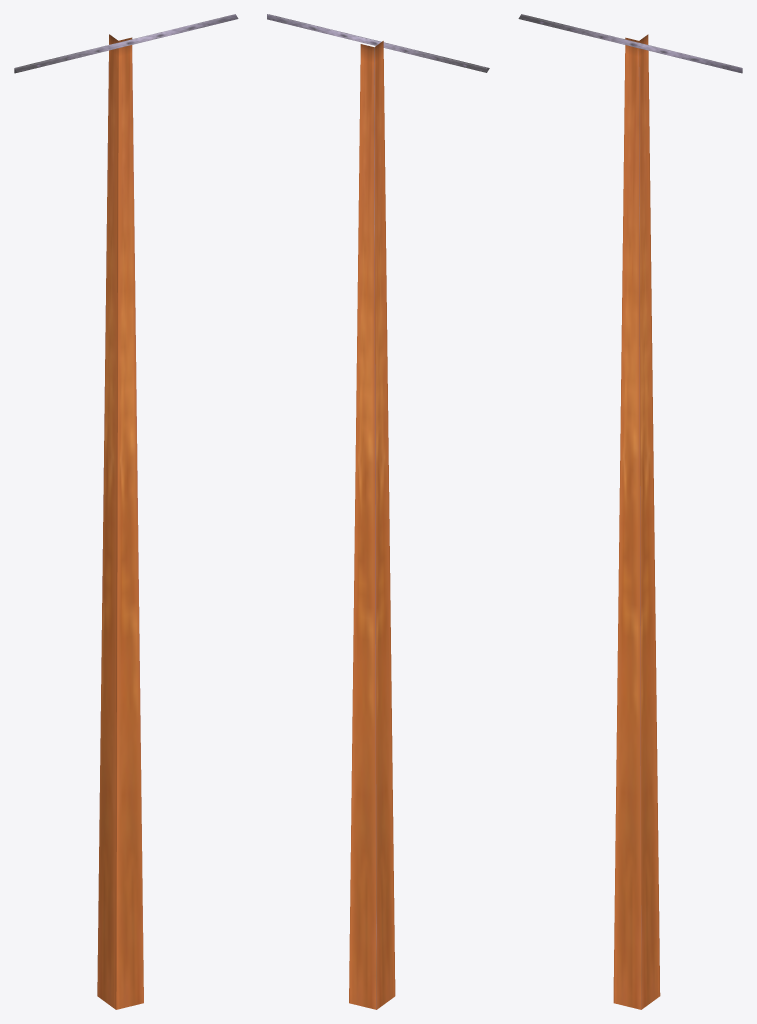
The model's file is ELEC_POLE02.glb.
3 renders of one model, left to right at view 1: azimuth 30°, elevation 25°; view 2: azimuth 150°, elevation 25°; view 3: azimuth 330°, elevation 25°, orthographic.
Visible parts, largest first — view 1: ELEC_POLE02; view 2: ELEC_POLE02; view 3: ELEC_POLE02.
Part boxes in pixels (x1=…): ELEC_POLE02: x1=14, y1=14, x2=238, y2=1009; ELEC_POLE02: x1=267, y1=14, x2=489, y2=1009; ELEC_POLE02: x1=518, y1=14, x2=742, y2=1009.
Bounding box in the file's own units: 345 × 1436 × 50.76.
Materials: 1 (1 with a texture image).
